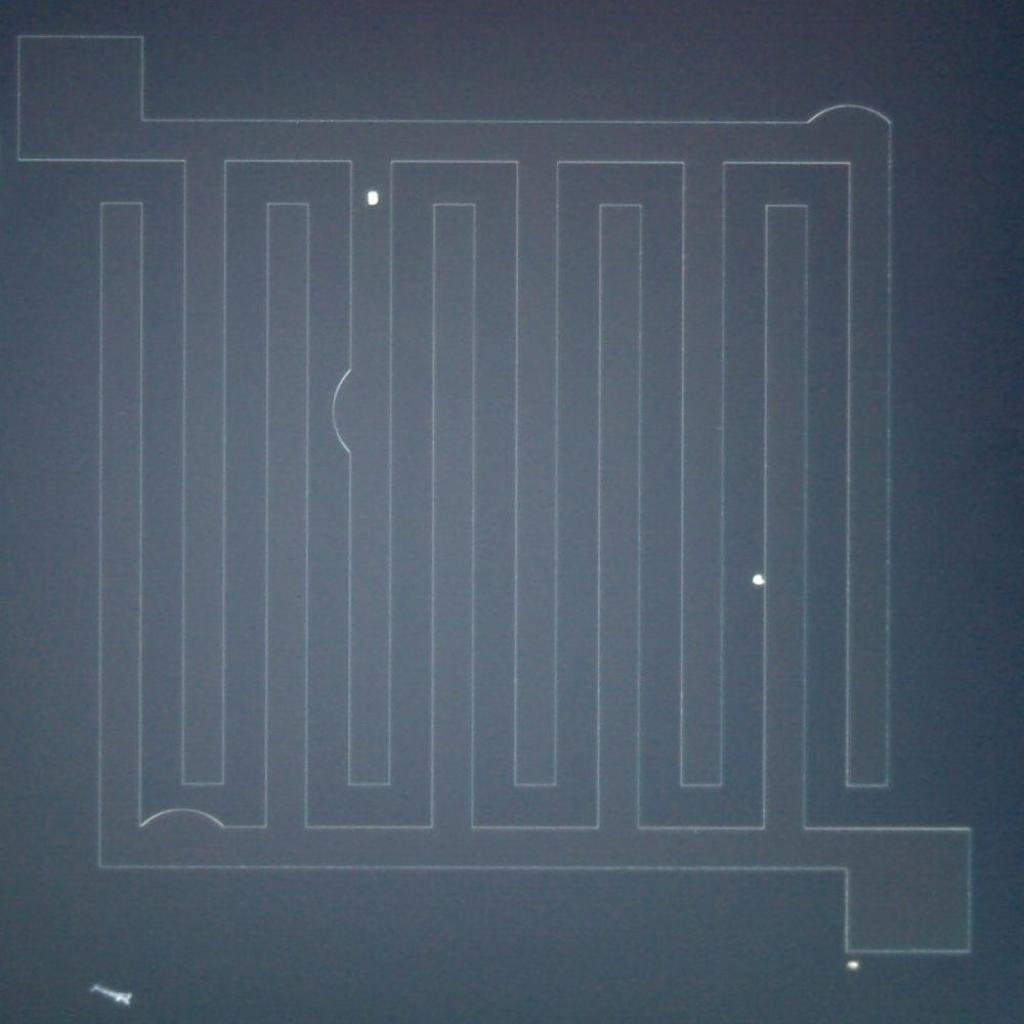dot: (365, 191, 380, 206), (846, 959, 859, 971), (753, 574, 764, 586)
straight: (94, 978, 128, 1011)
